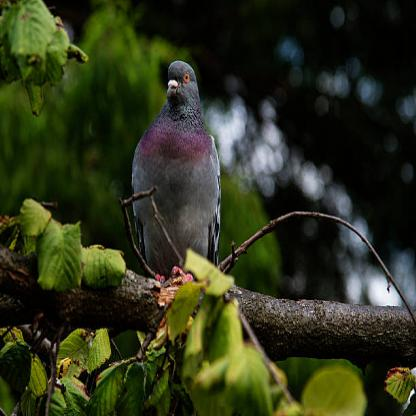Rock Pigeon: (134, 53, 225, 288)
